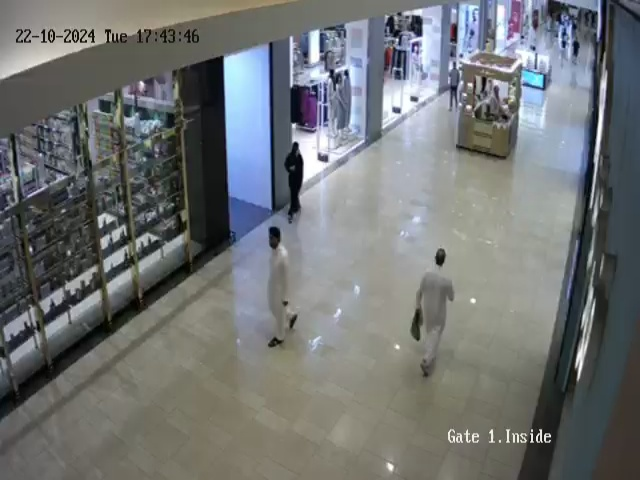male: (411, 248, 455, 377), (267, 226, 298, 348), (284, 141, 304, 224), (448, 62, 460, 112), (567, 37, 586, 63)
other: (330, 69, 352, 139), (480, 82, 509, 133)
